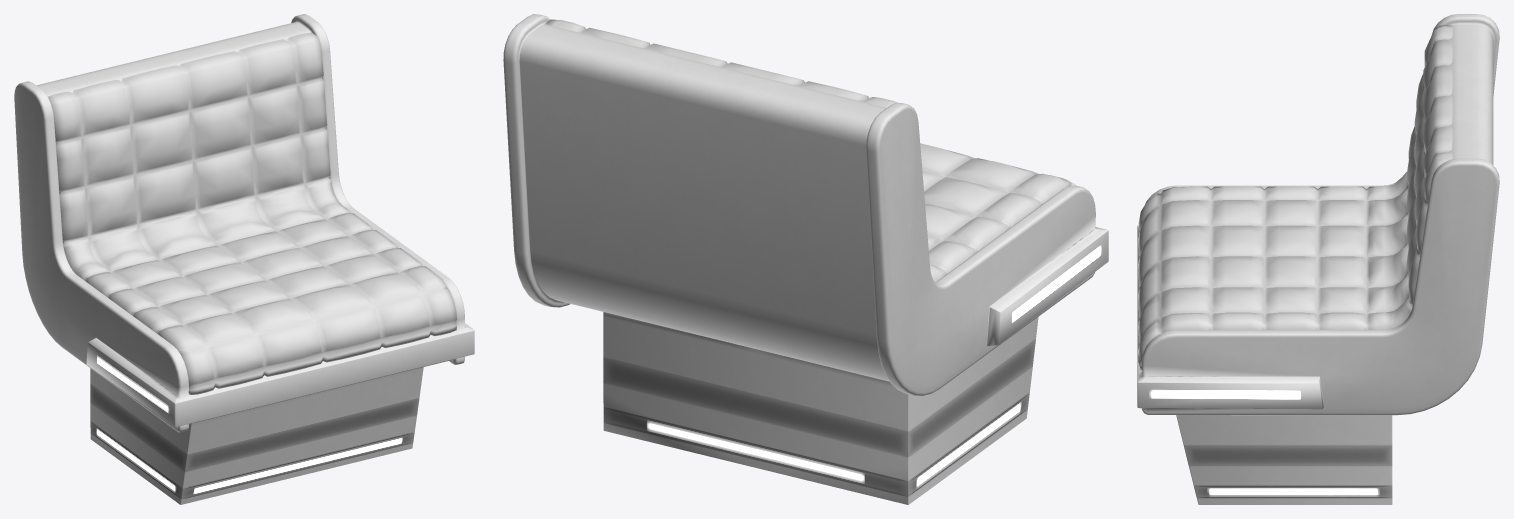
Rendered from Sofa02_3.FBX.
3 views of the same model, side by side, from view 1: azimuth 30°, elevation 25°; view 2: azimuth 150°, elevation 25°; view 3: azimuth 270°, elevation 25° (orthographic). The views are drawn at different scales.
Visible parts, largest first — view 1: Sofa02_3; view 2: Sofa02_3; view 3: Sofa02_3.
Part boxes in pixels (bbox=[...]): Sofa02_3: bbox=[14, 14, 474, 504]; Sofa02_3: bbox=[503, 14, 1108, 504]; Sofa02_3: bbox=[1137, 14, 1499, 504].
Size of what is drawn, in the model's own units: 1.06 by 1.11 by 1.02.
